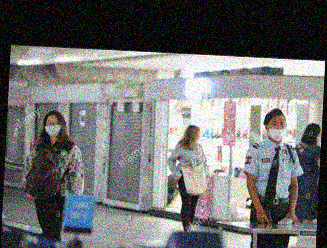mask_weared_incorrect: (266, 118, 286, 142)
with_mask: (43, 120, 63, 138)
